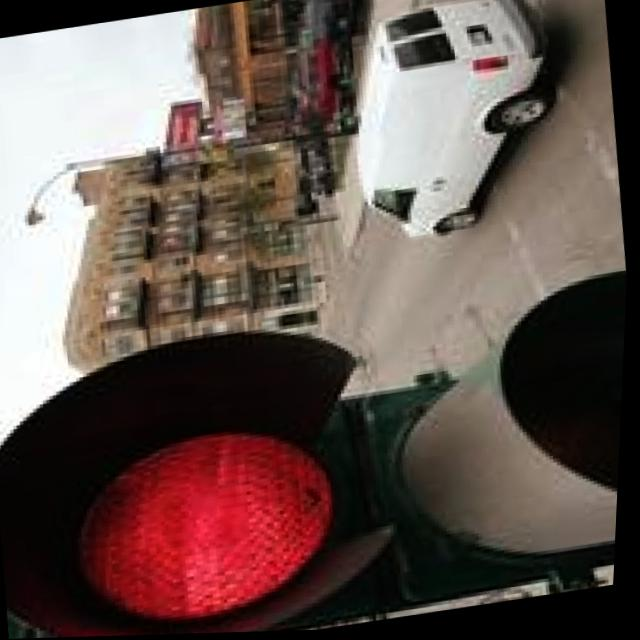red_light: (0, 358, 398, 640)
